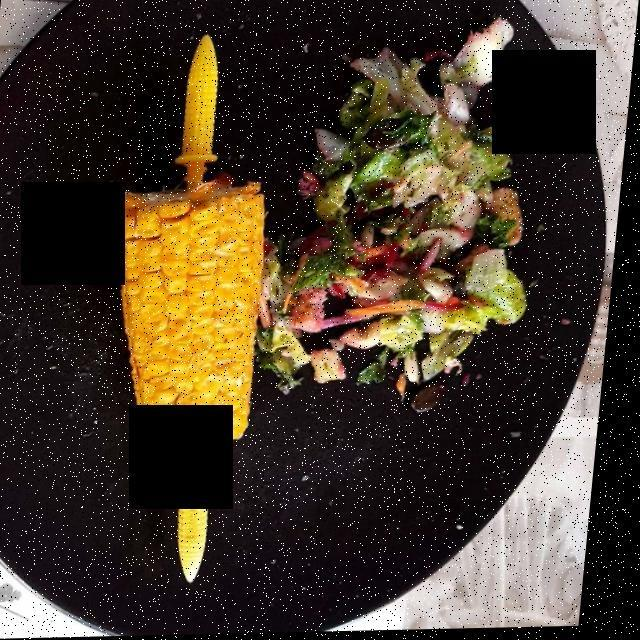corn: (117, 187, 271, 538)
pumpkin-seeds: (408, 237, 460, 415), (365, 175, 454, 251)
salad: (271, 34, 522, 379)
